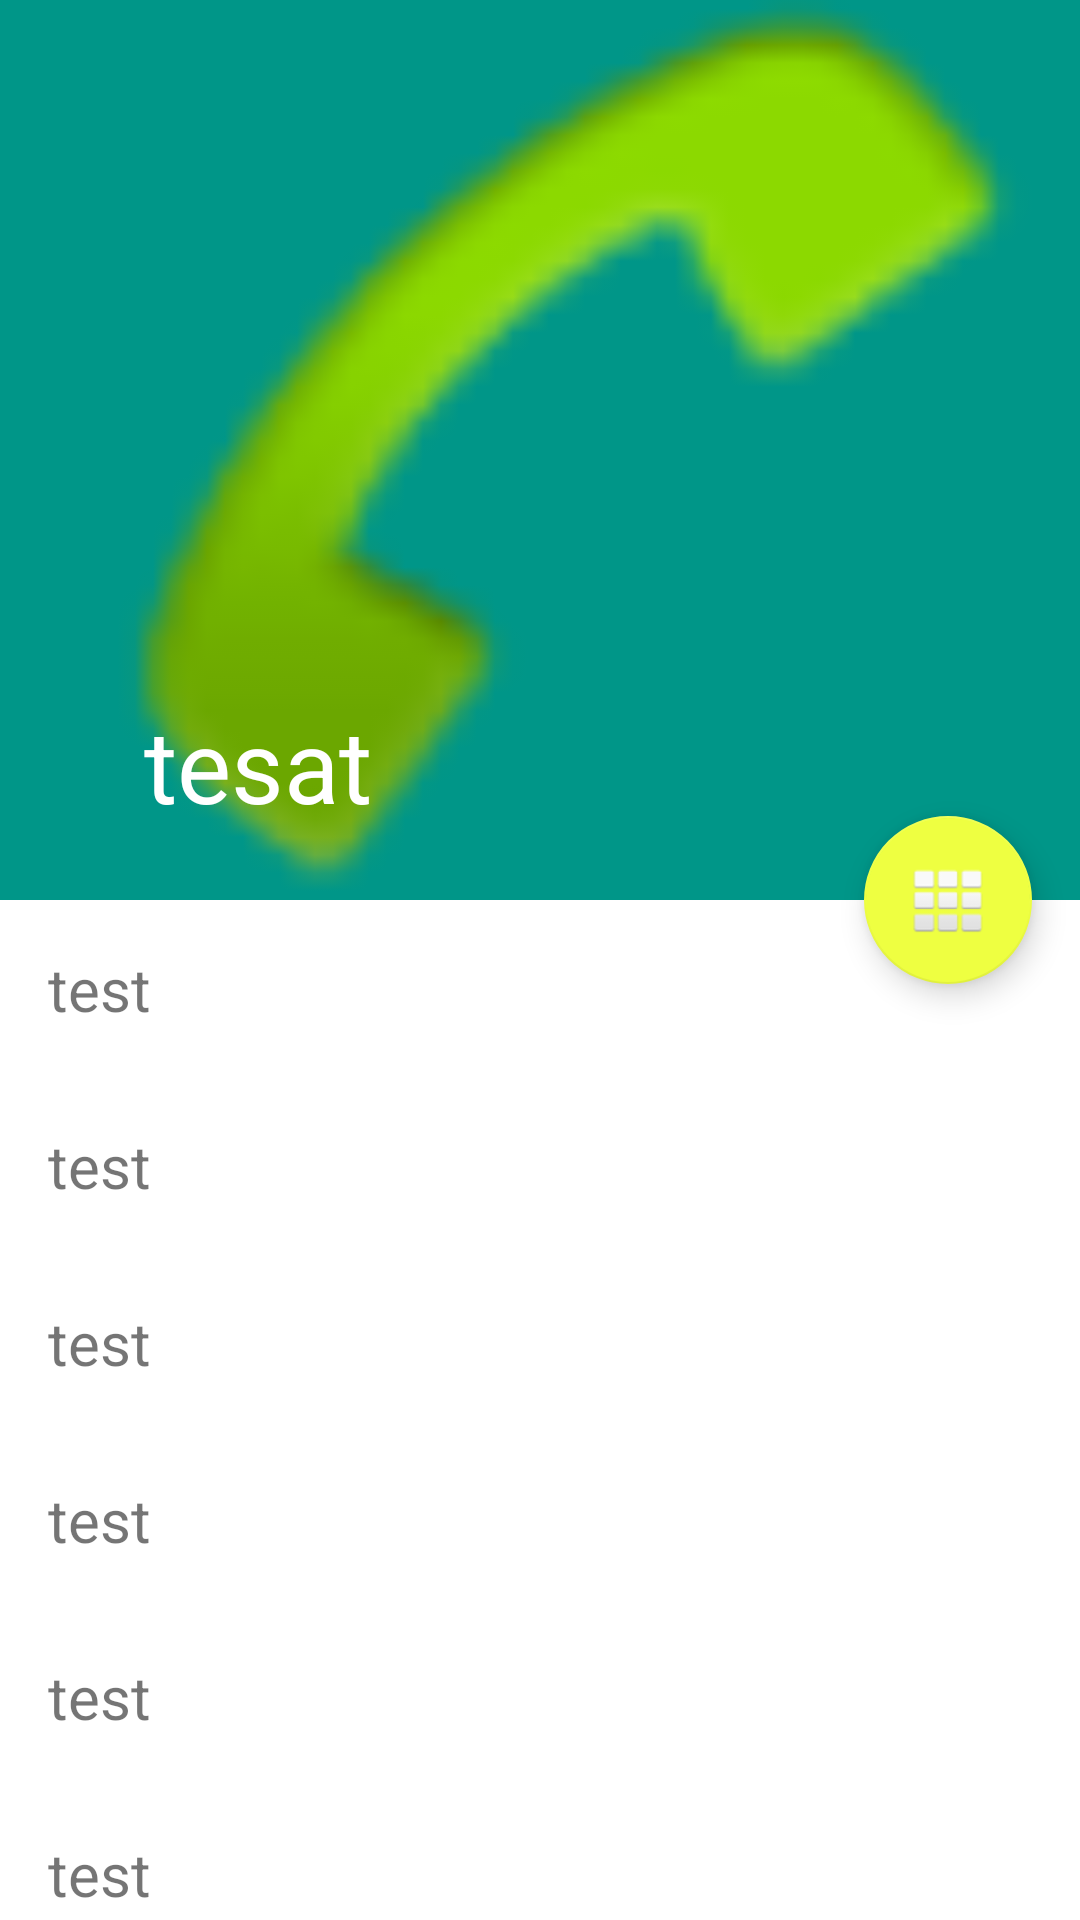

Point at icon controls on the screen. Image size 1080w x 1920h, points as [x,y].
dialer: [948,900]
